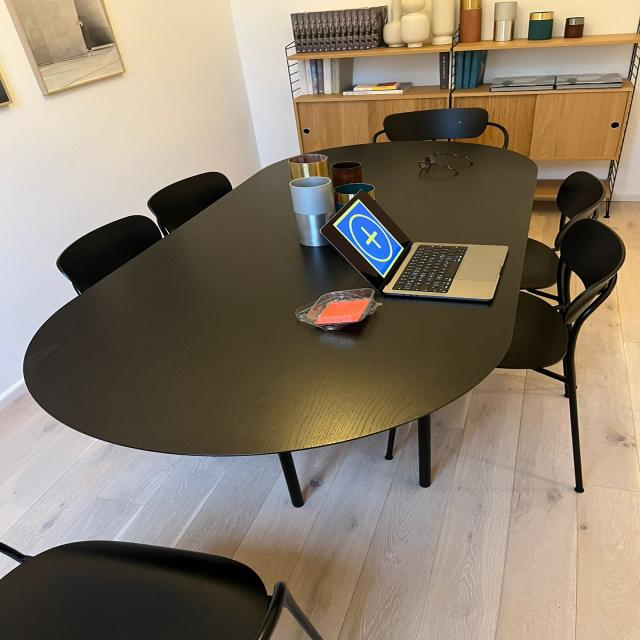Marker: (332, 199, 404, 279)
